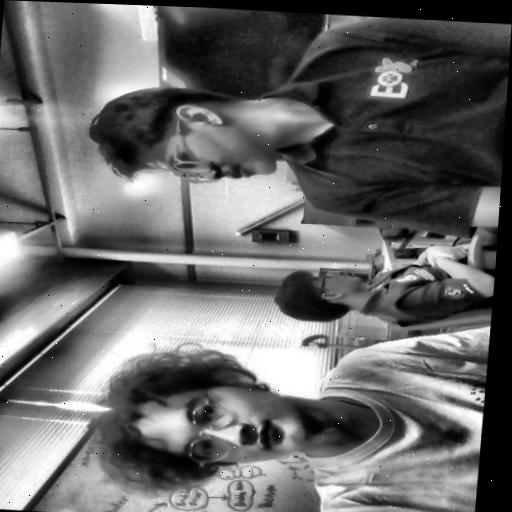Daifuku: (80, 339, 330, 497)
Not Daifuku: (86, 85, 288, 191), (266, 265, 376, 324)
